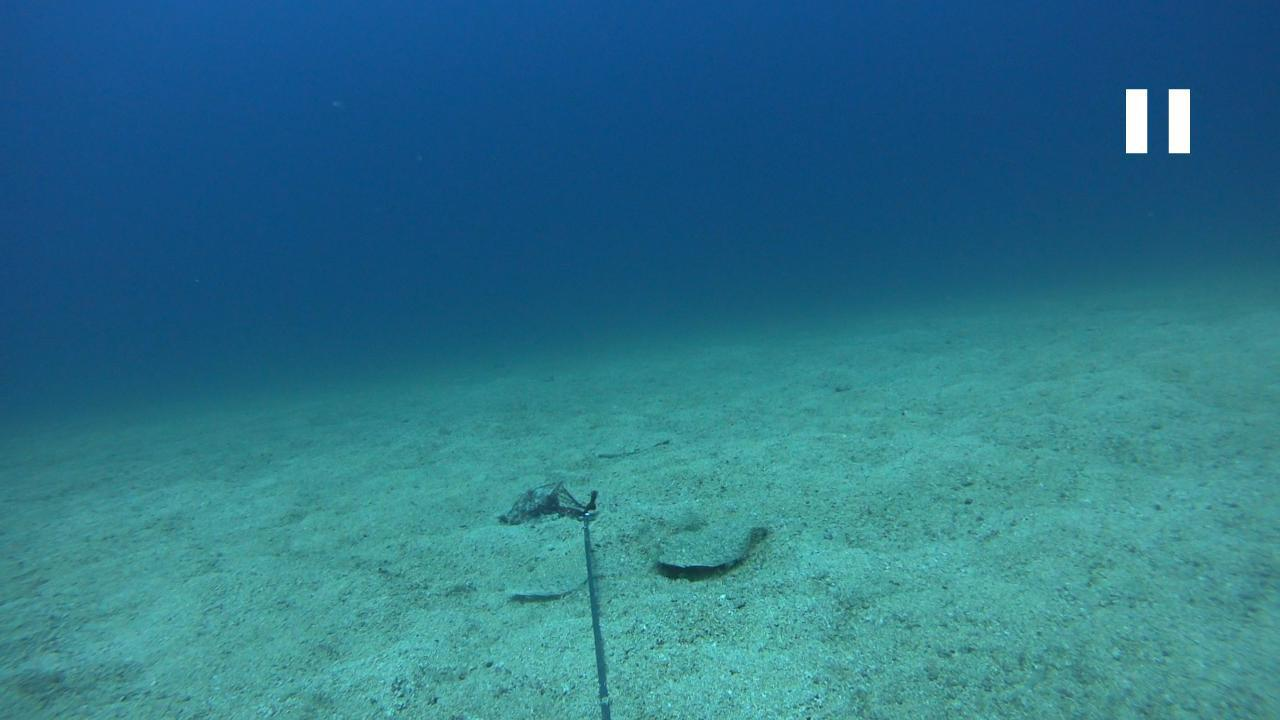bothus: (652, 514, 771, 575), (506, 532, 590, 606)
